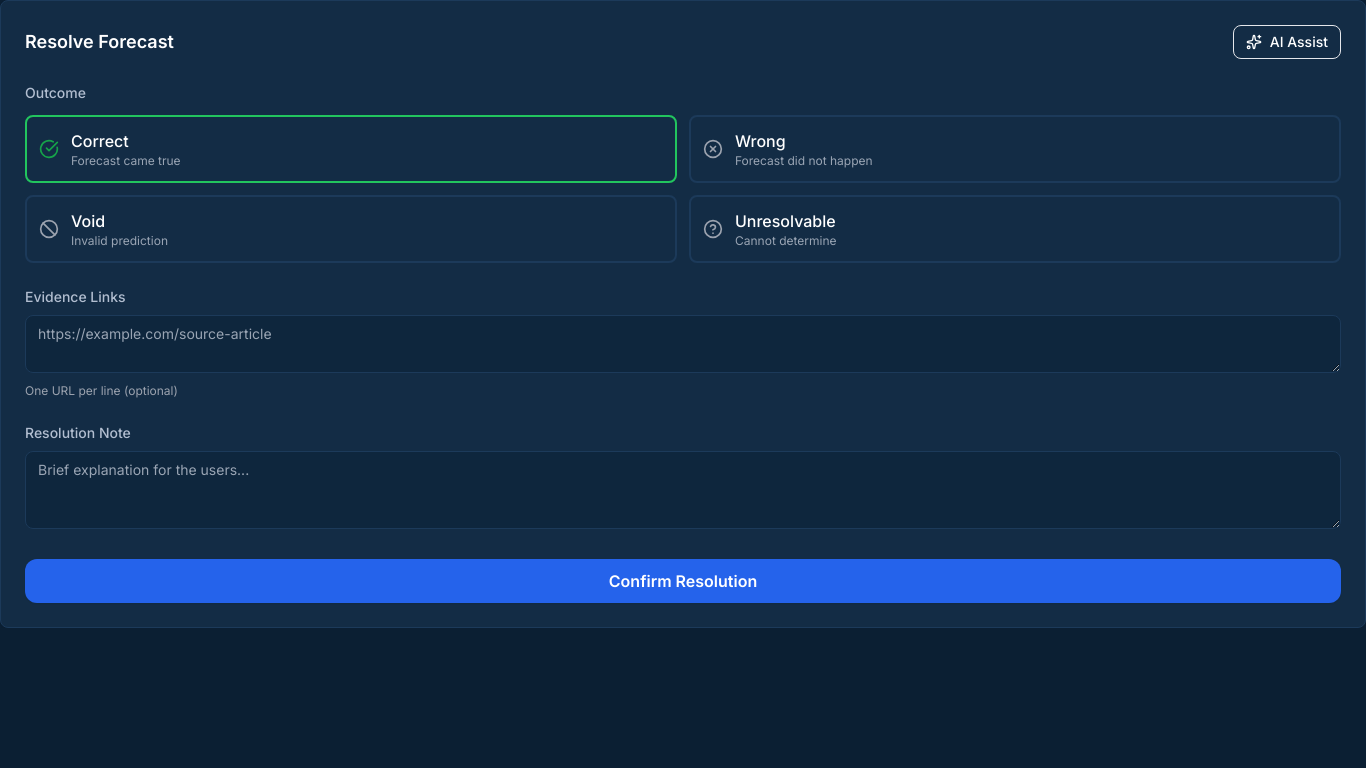
it: ResolutionForm › displays error when API returns non-ok
Click the button "Confirm Resolution": (683, 581) [25,559,1341,603]
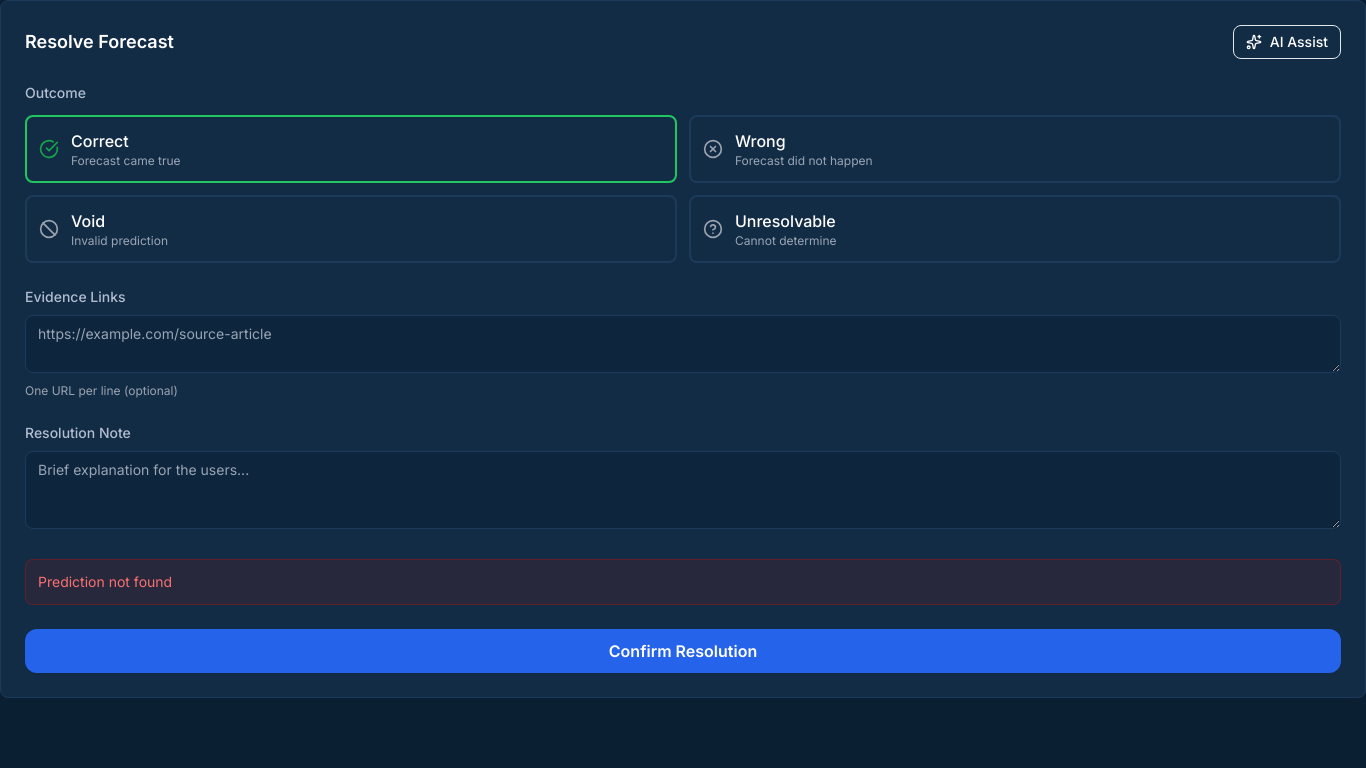
Check: the text "Prediction not found" is shown, box [25,559,1341,605]
